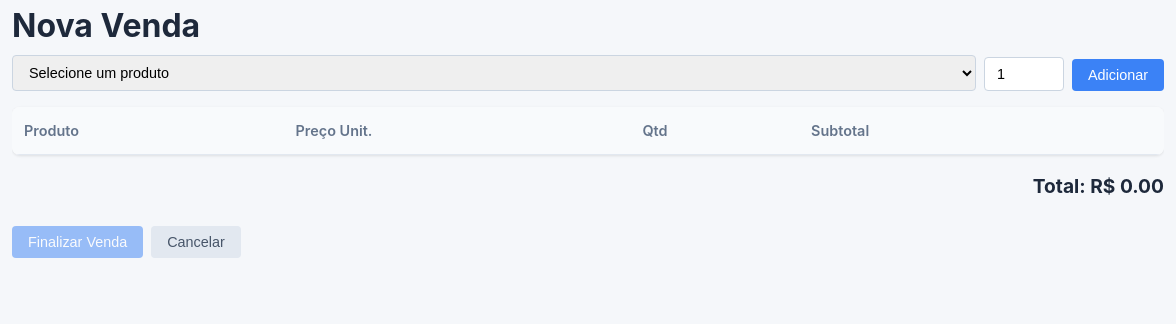
Test: NewSale page › remove item da lista
Select "Arroz (R$ 10.50) - Est: 20" in the dropdown: (494, 73) [12,55,976,91]
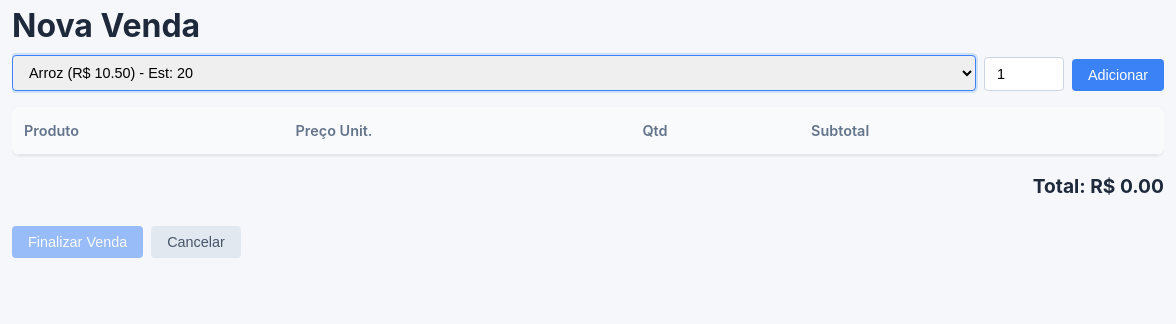
Replace the text in the number field with "2": (1024, 74) [984,57,1064,91]
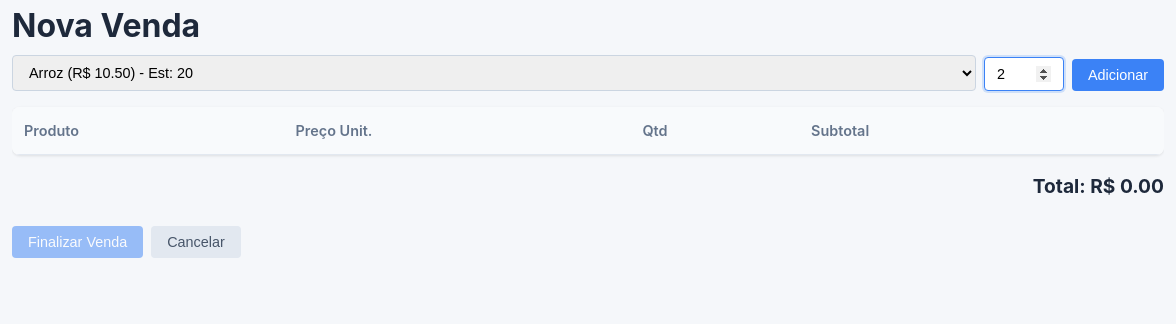
Click the button "Adicionar": (1118, 75) [1072,59,1164,91]
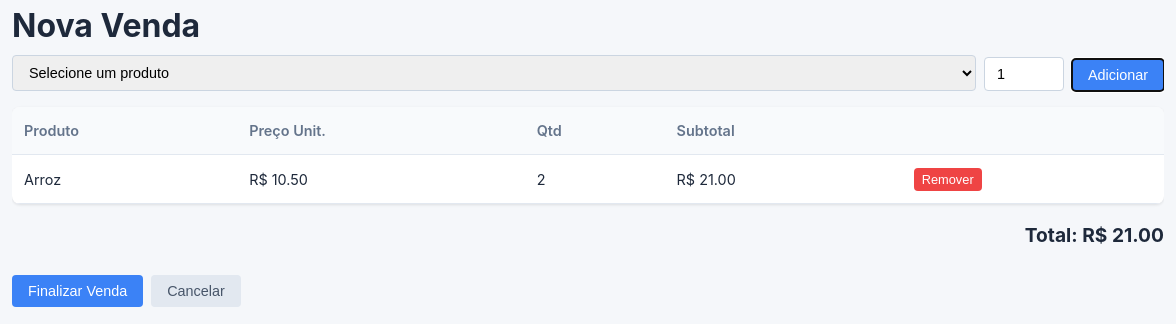
Check: the text "Arroz" is shown, box [12,155,237,204]
Click the button "Remover": (948, 180) [914,168,982,191]
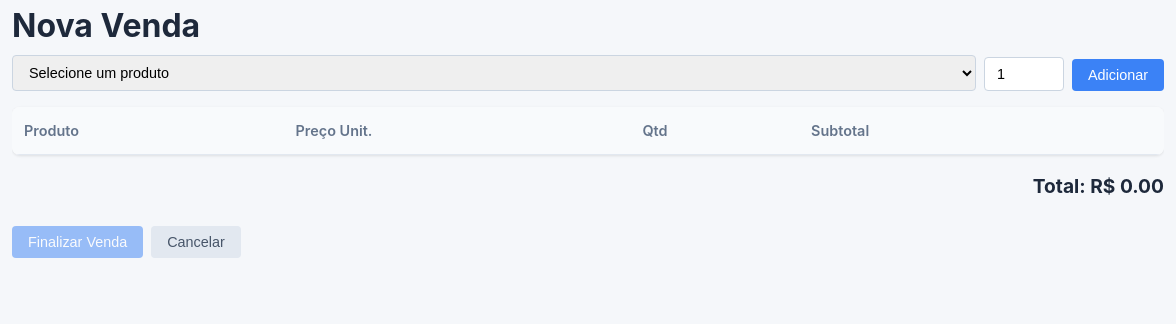
Check: the text "Arroz" is gone
Check: the text "Total: R$ 0.00" is shown, box [1033,174,1164,198]
